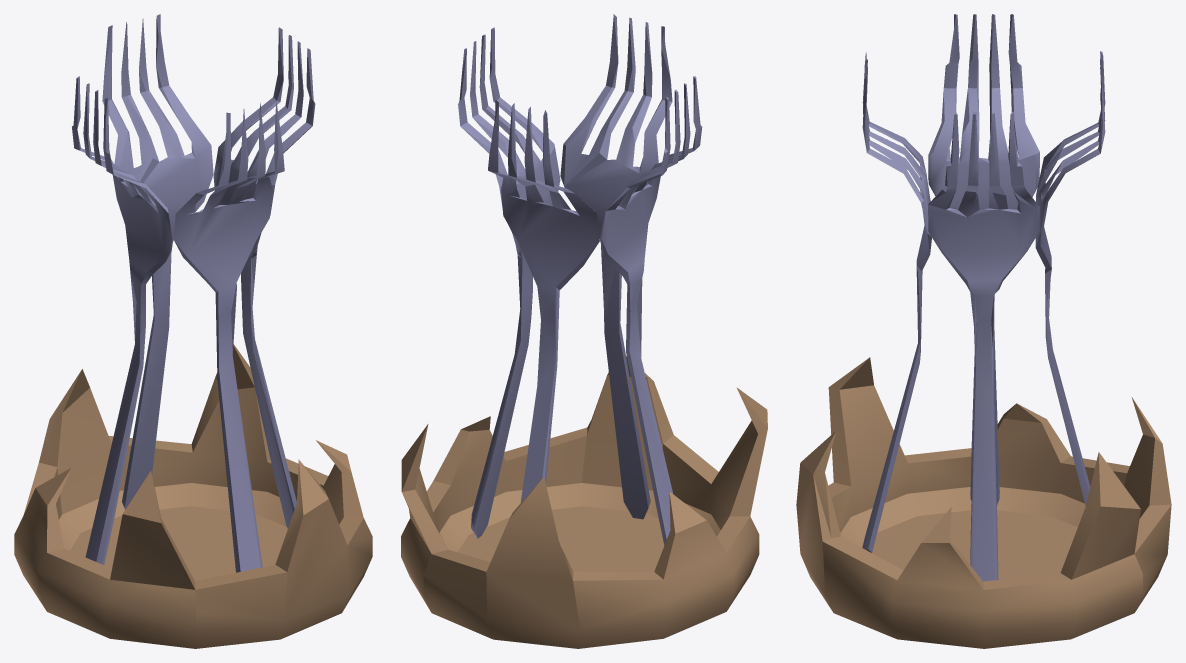
Rendered from TORRE_TALHER.fbx.
3 renders of one model, left to right at view 1: azimuth 30°, elevation 25°; view 2: azimuth 150°, elevation 25°; view 3: azimuth 270°, elevation 25°, orthographic.
Parts seen in each view (by area): view 1: Torre; view 2: Torre; view 3: Torre.
Boxes of the visible parts, x1=… form: Torre: x1=14, y1=14, x2=372, y2=648; Torre: x1=401, y1=14, x2=767, y2=648; Torre: x1=796, y1=14, x2=1171, y2=648.
Bounding box in the file's own units: 5.4 × 8.63 × 5.7.
